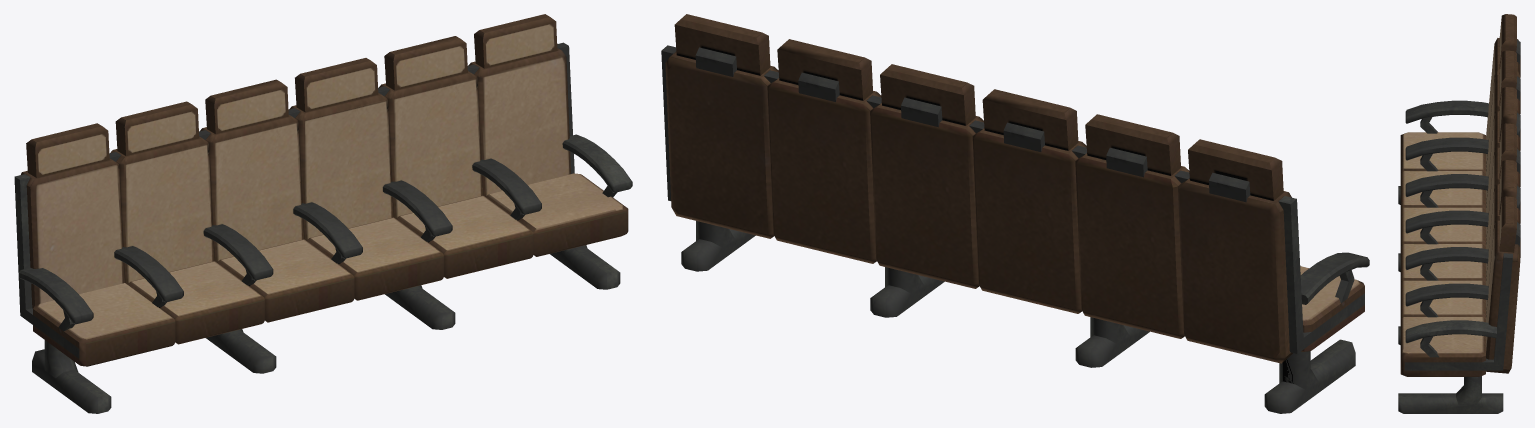
The model's file is LobbyChairs.fbx.
3 views of the same model, side by side, from view 1: azimuth 30°, elevation 25°; view 2: azimuth 150°, elevation 25°; view 3: azimuth 270°, elevation 25° (orthographic). The views are drawn at different scales.
Parts seen in each view (by area): view 1: Lobby_Chairs; view 2: Lobby_Chairs; view 3: Lobby_Chairs.
Part boxes in pixels (left/top/right/bottom): Lobby_Chairs: left=14, top=14, right=632, bottom=413; Lobby_Chairs: left=661, top=14, right=1369, bottom=413; Lobby_Chairs: left=1398, top=14, right=1520, bottom=413.
Size of the model in its own units: 276 by 105 by 62.41.
